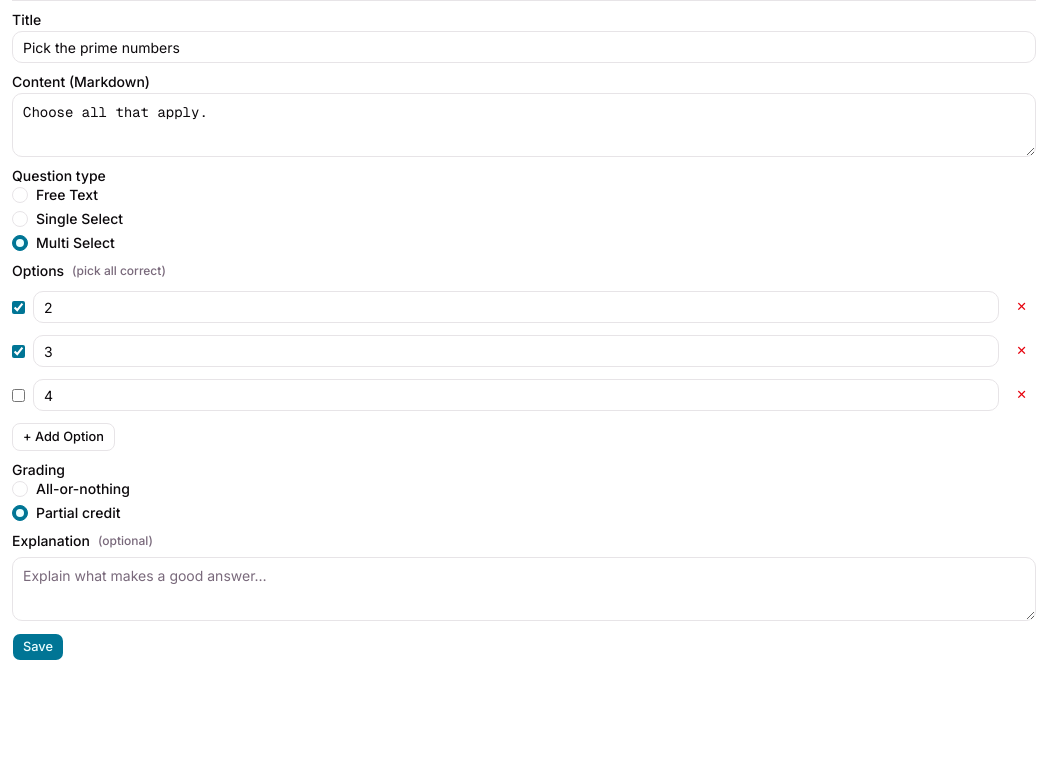
Test case: Feature: Pool question edit panel — grading strategy › starts on the question's stored grading strategy and submits a changed choice
Expected: the radio button named "Partial credit" next to "Partial credit" is checked, [12,505,28,521]
Click the radio button named "All-or-nothing" next to "All-or-nothing": (20, 489) [12,481,28,497]
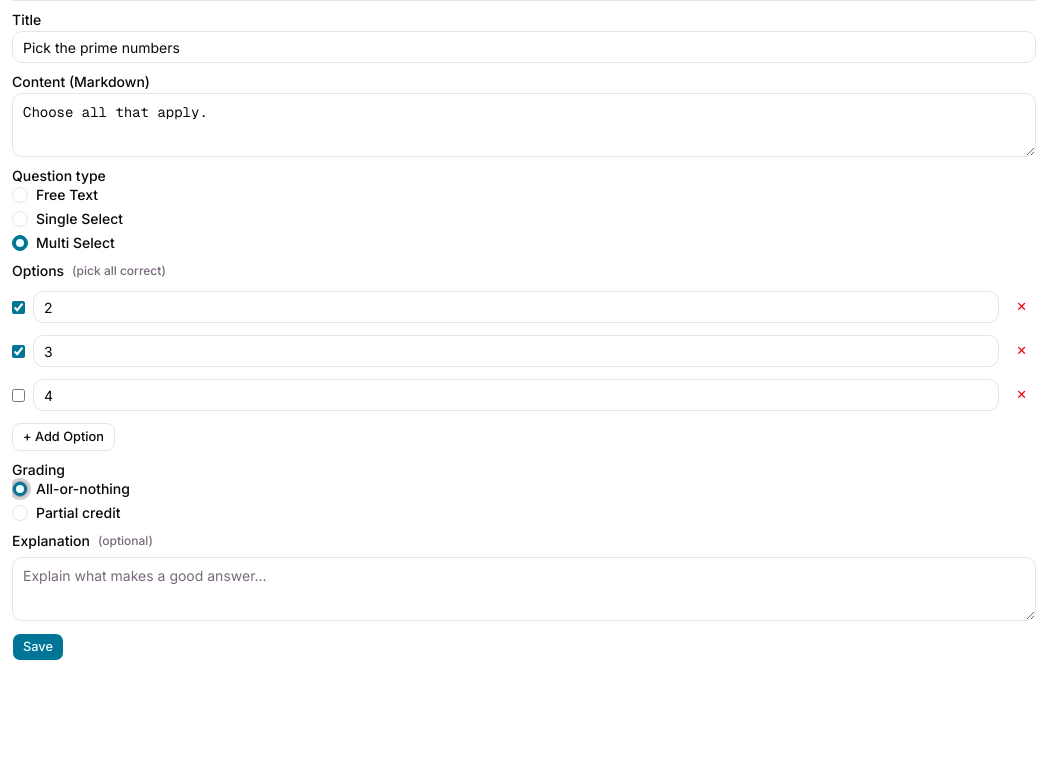
Click the button "Save": (38, 647) [12,633,64,661]
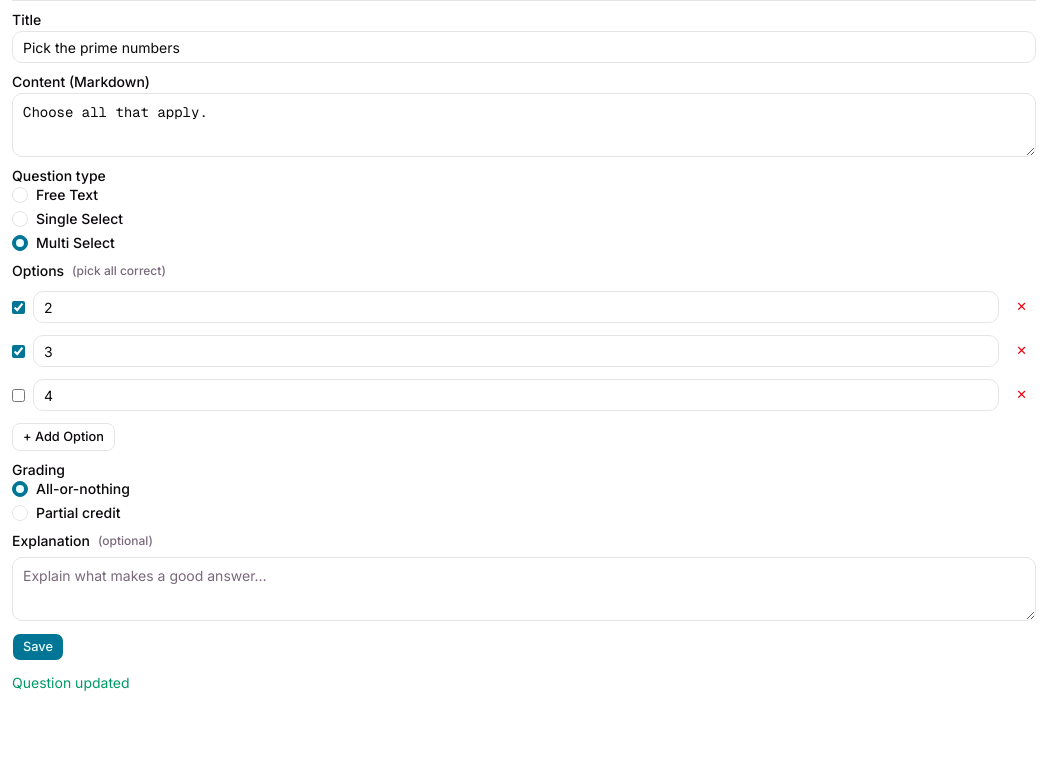
Expected: the text "Question updated" is shown, [12,674,130,691]
